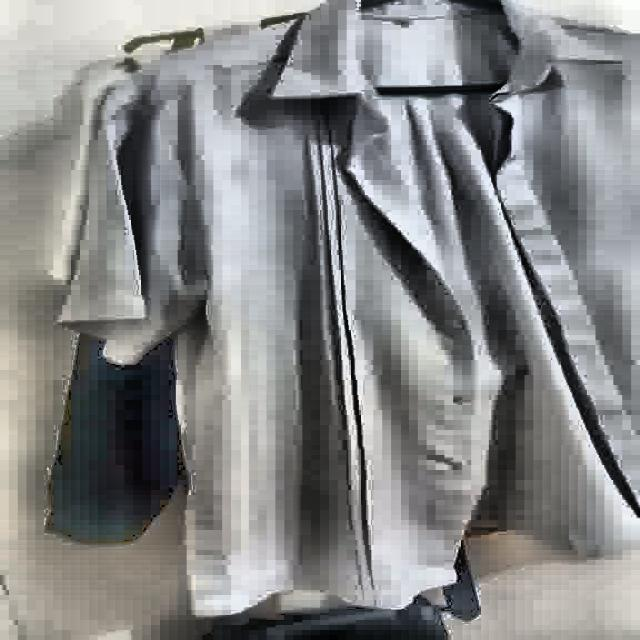clothes: (57, 1, 634, 627)
